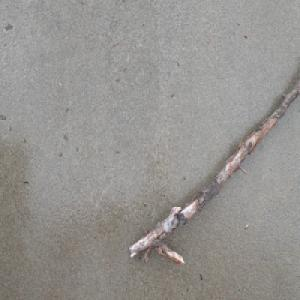Wood: (127, 78, 300, 267)
